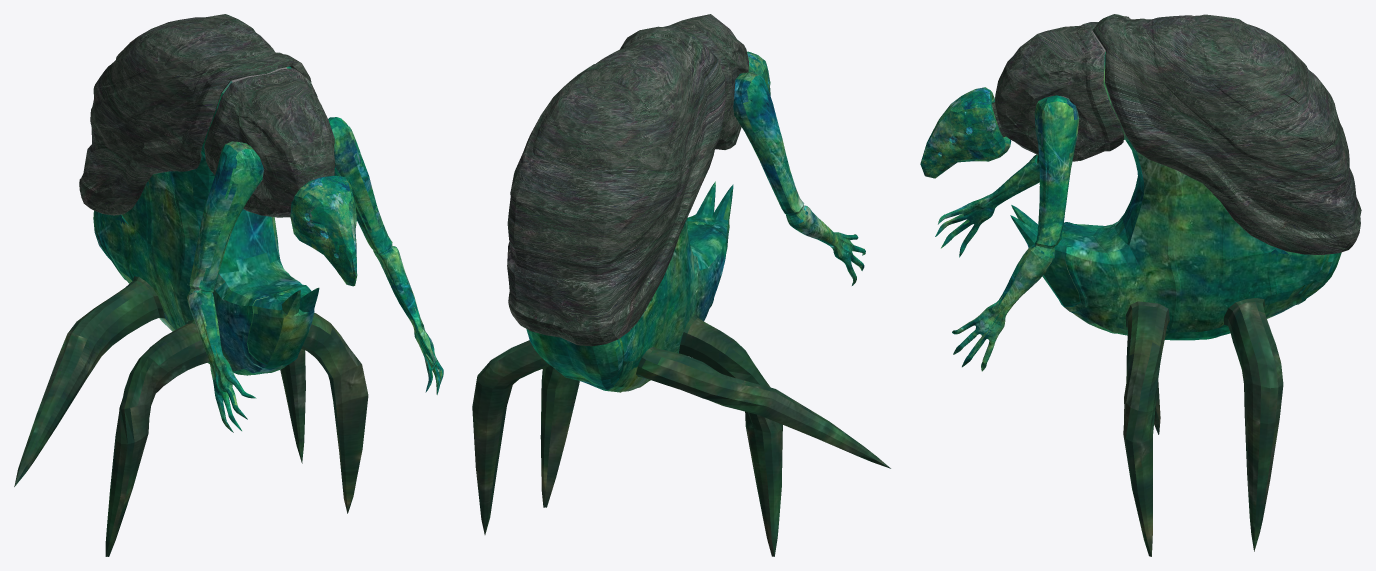
Rendered from Andar.0015.obj.
The picture shows the model from 3 angles, left to right: view 1: azimuth 30°, elevation 25°; view 2: azimuth 150°, elevation 25°; view 3: azimuth 270°, elevation 25°; orthographic projection. The views are drawn at different scales.
Bounding box in the file's own units: 2.95 × 3.93 × 3.26.
5 materials, 4 textured.
